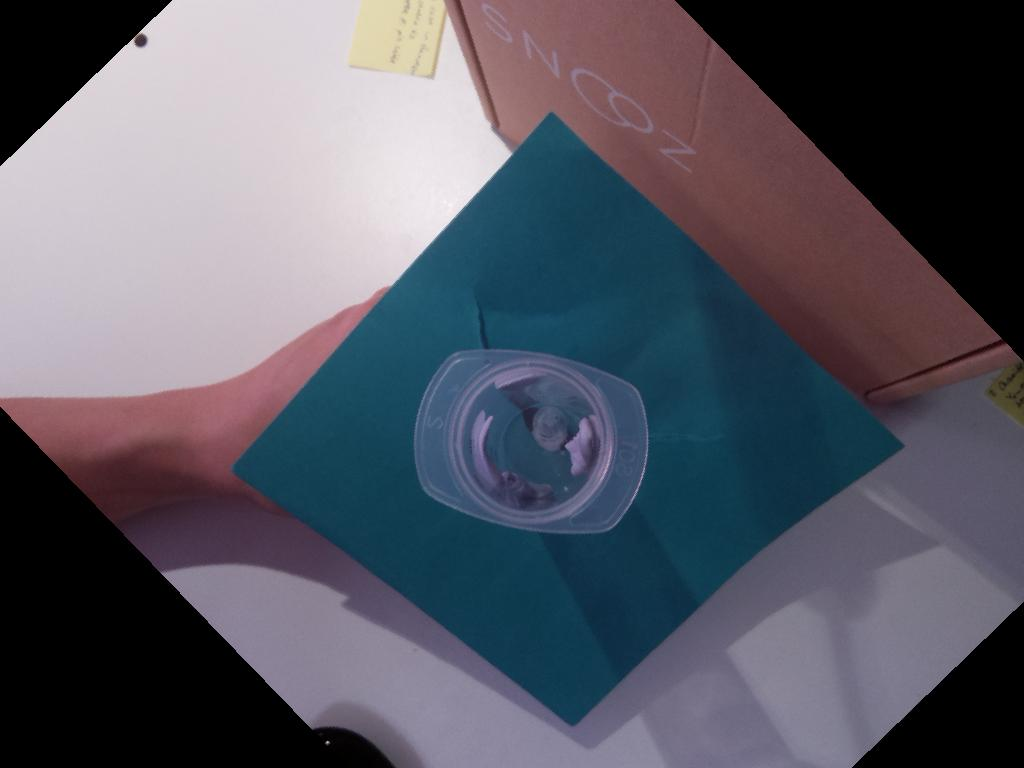dirty: (415, 349, 648, 534)
